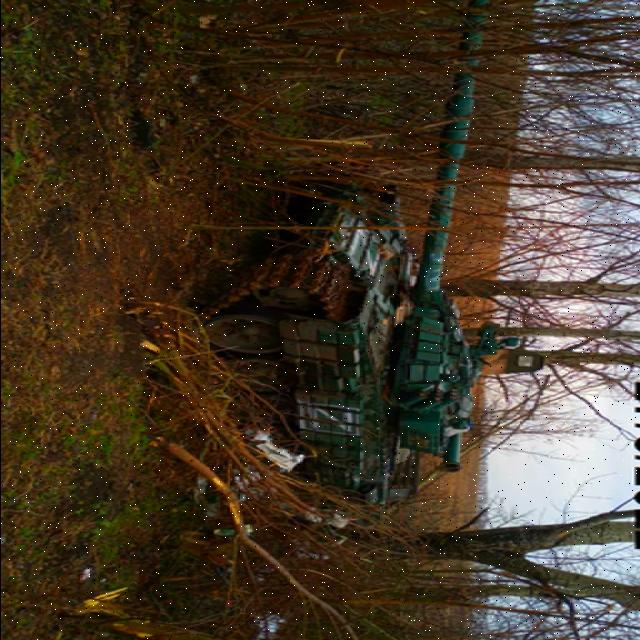TANK: (189, 0, 529, 519)
